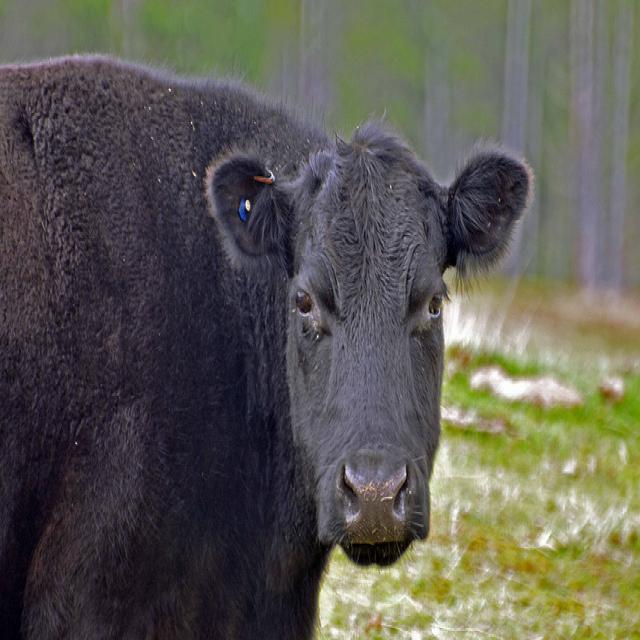cow: (0, 61, 531, 630)
